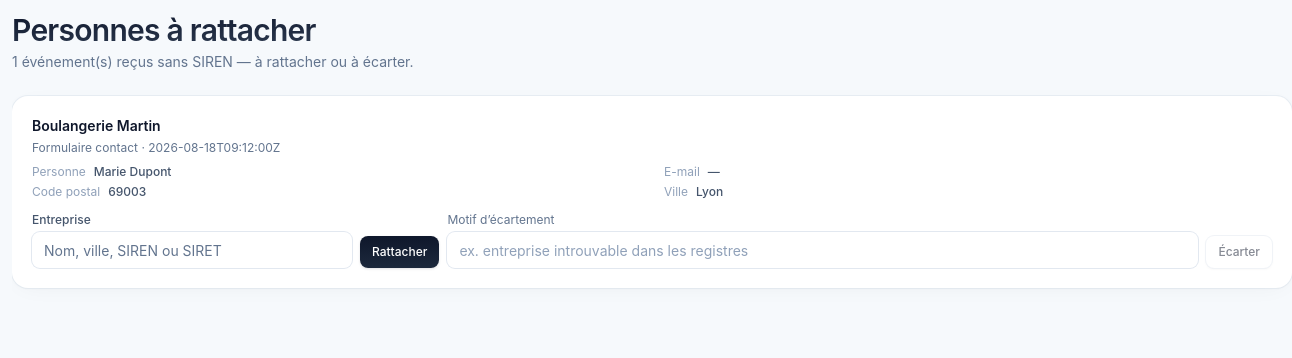
Test: ChoixEntreprise — rattacher en cherchant l’entreprise › un résultat PÉRIMÉ n’est jamais affiché : l’ancienne frappe qui répond après la nouvelle est ignorée
The image size is (1292, 358).
Step 1. Type "garage" into the dropdown labelled "Entreprise" → [192, 250], box [32,232,352,268]
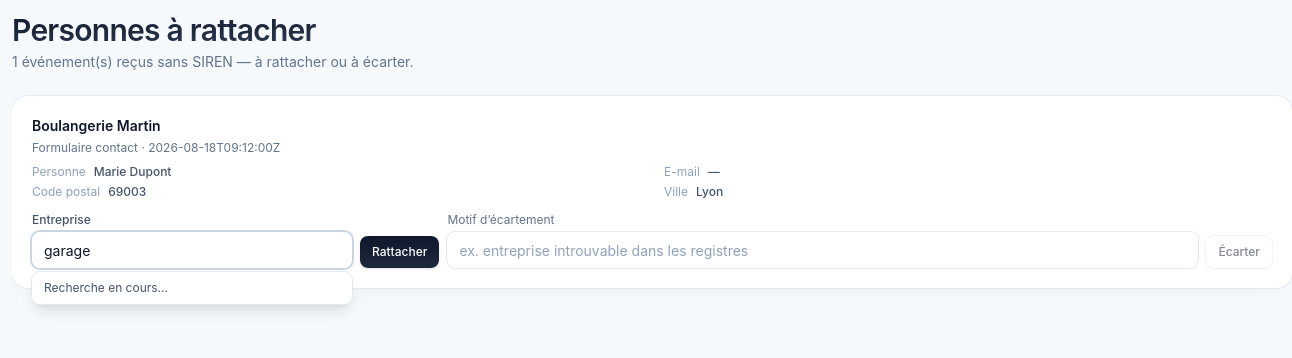
Step 2. Type " central" into the dropdown labelled "Entreprise" → [192, 250], box [32,232,352,268]
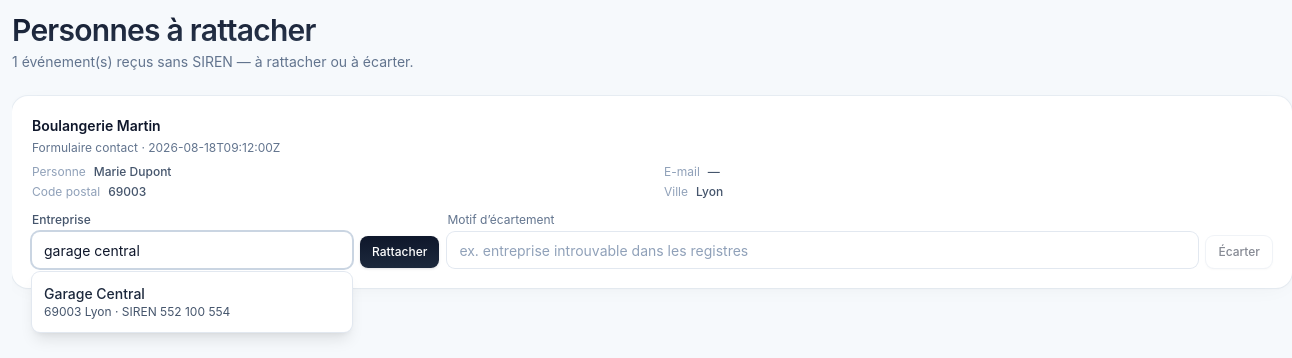
Check: the option "Garage Central 69003 Lyon · SIREN 552 100 554" is shown, box [44,285,230,319]
